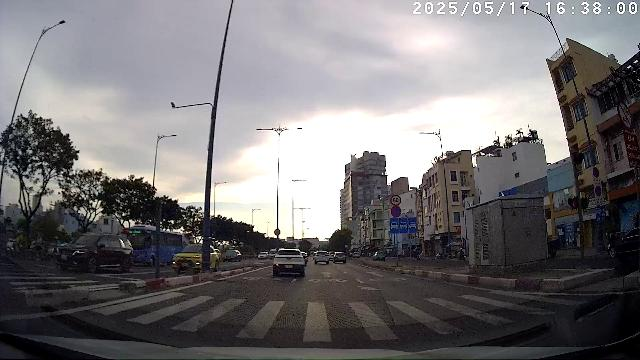127-toc-do-toi-da-60: (390, 194, 402, 206)
